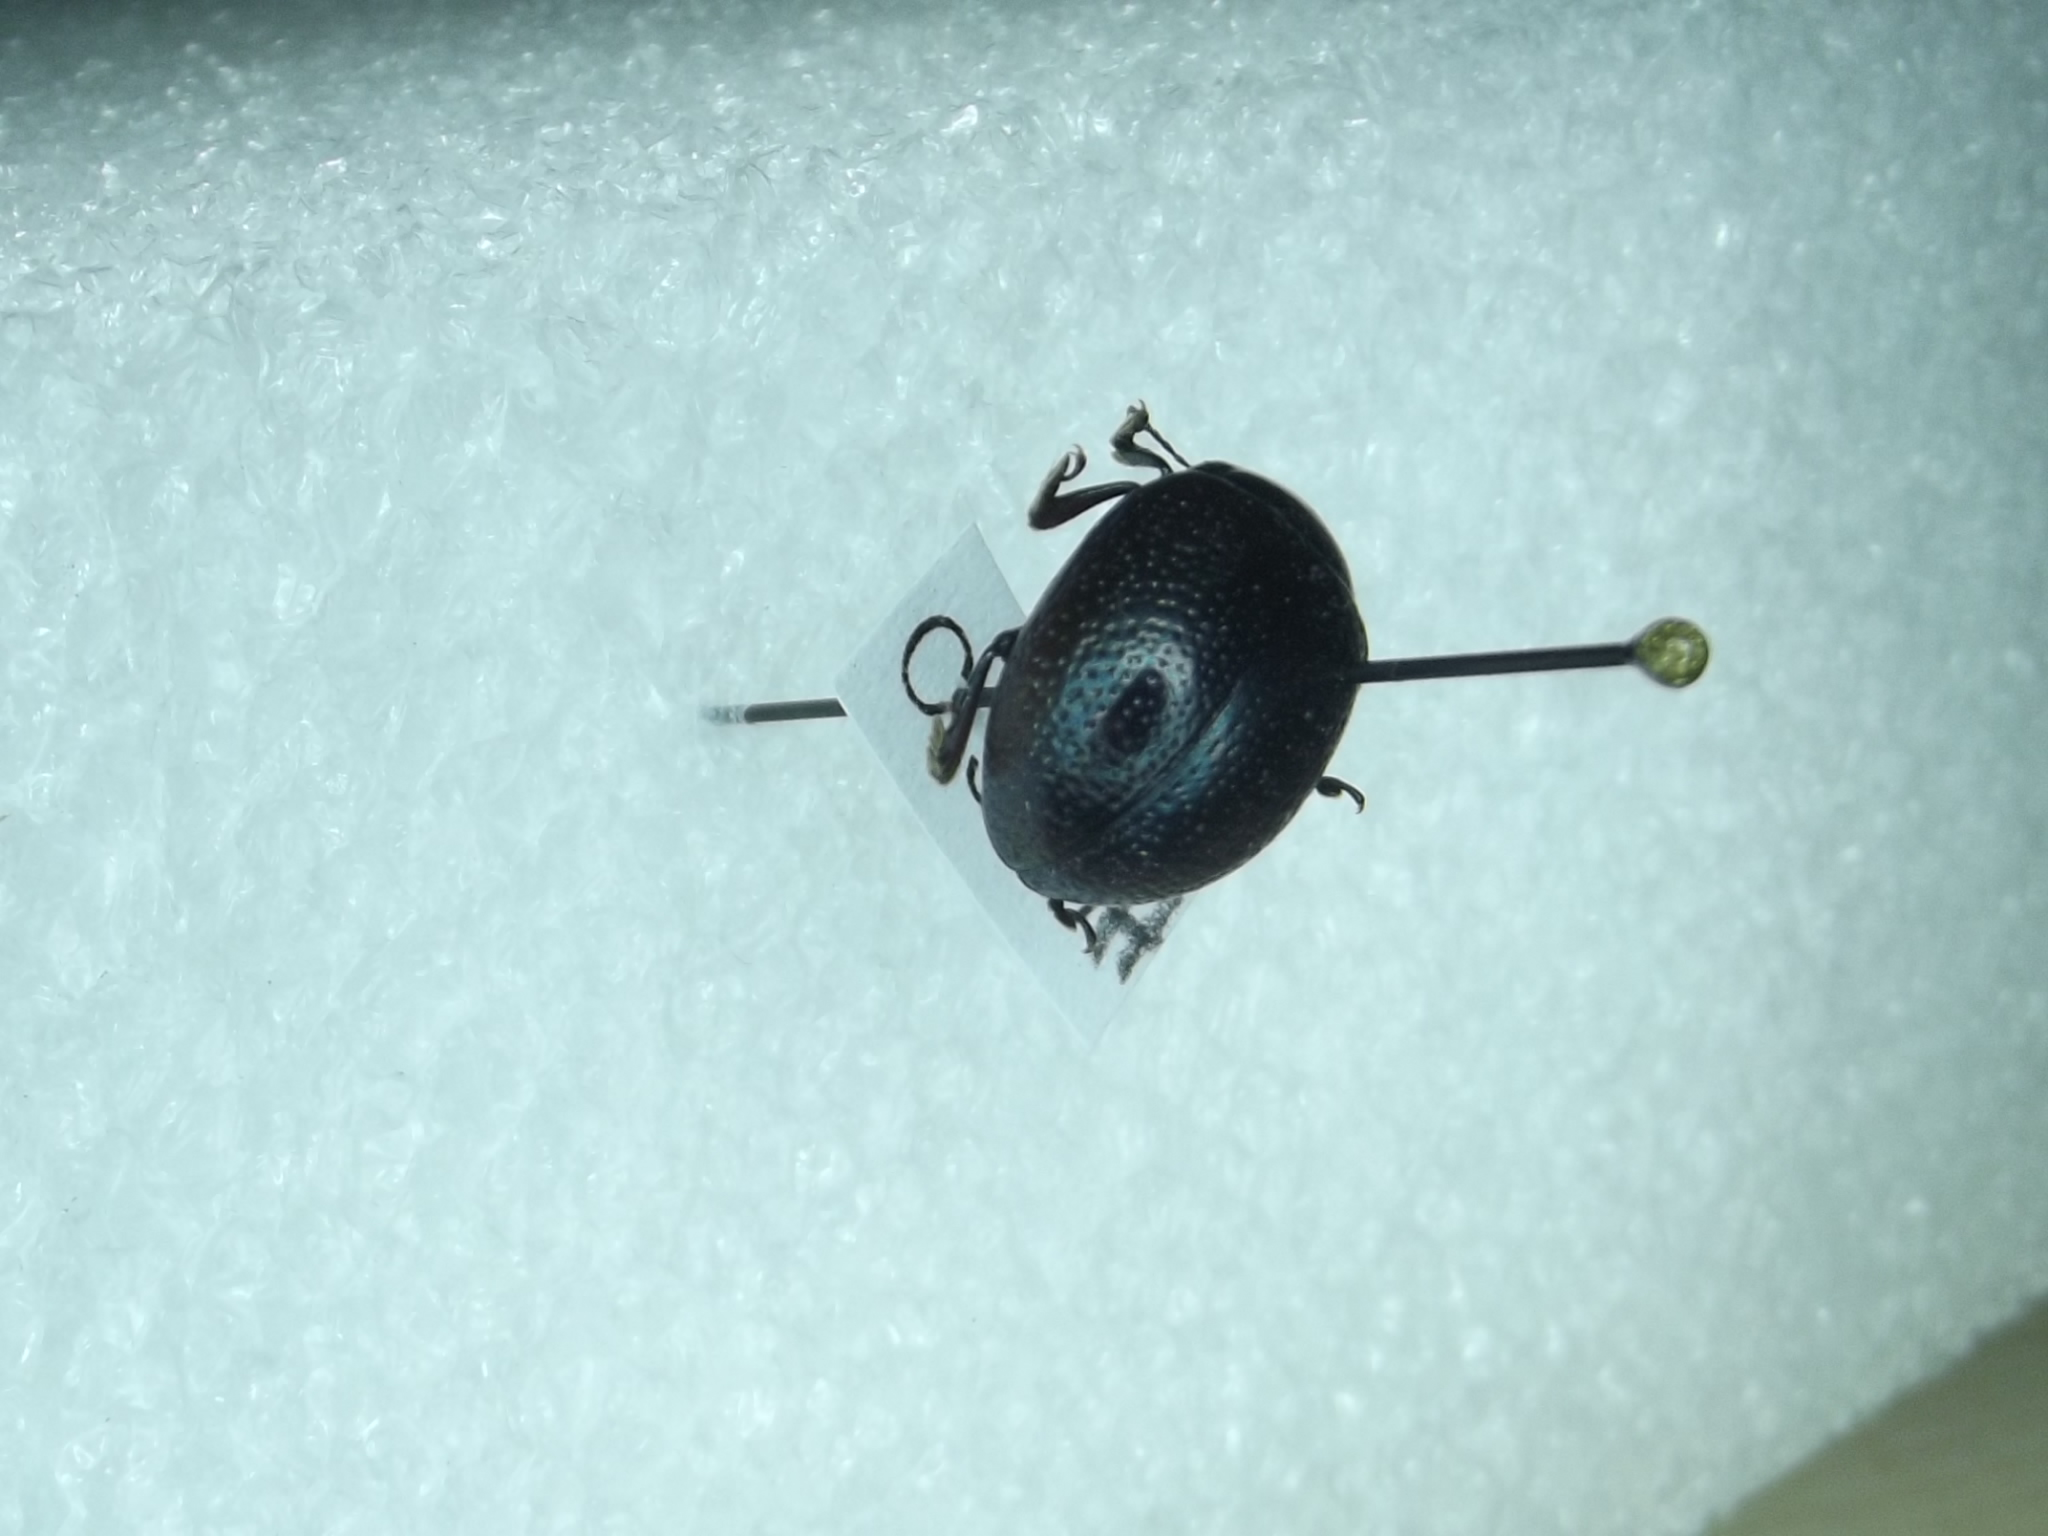Chrysolina_oricalcia: (926, 394, 1377, 912)
